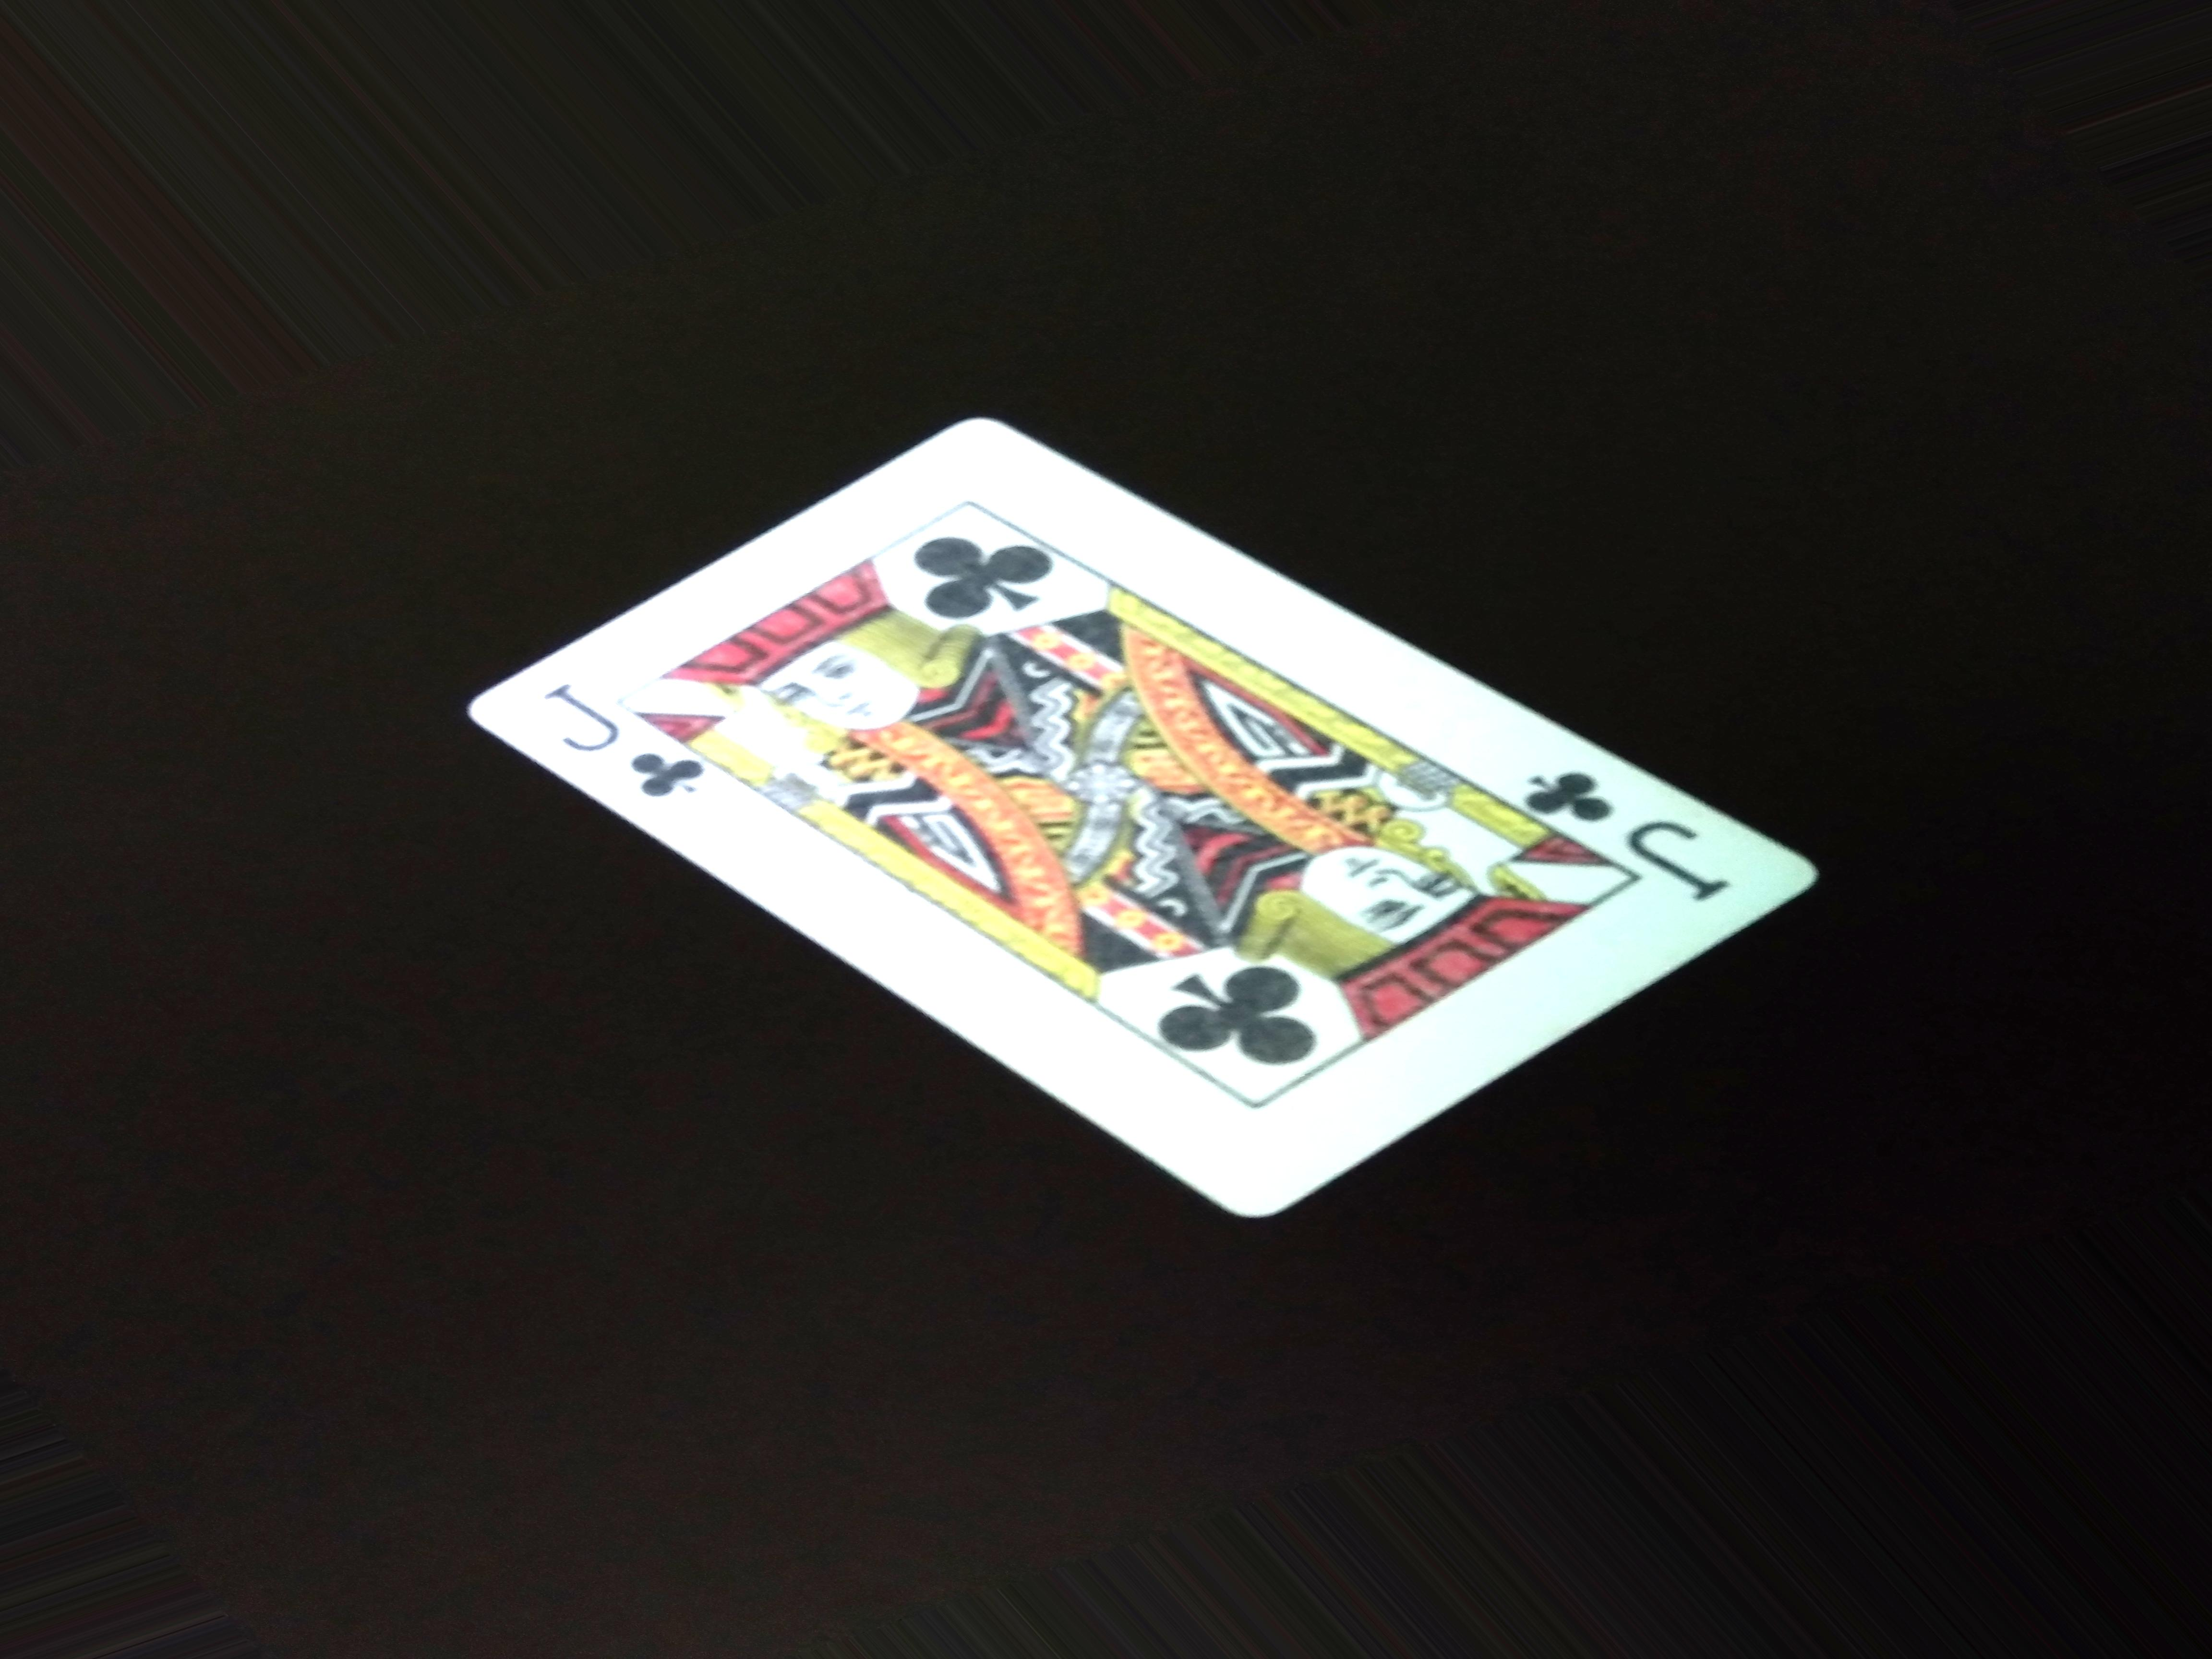JC: (536, 676, 716, 823)
